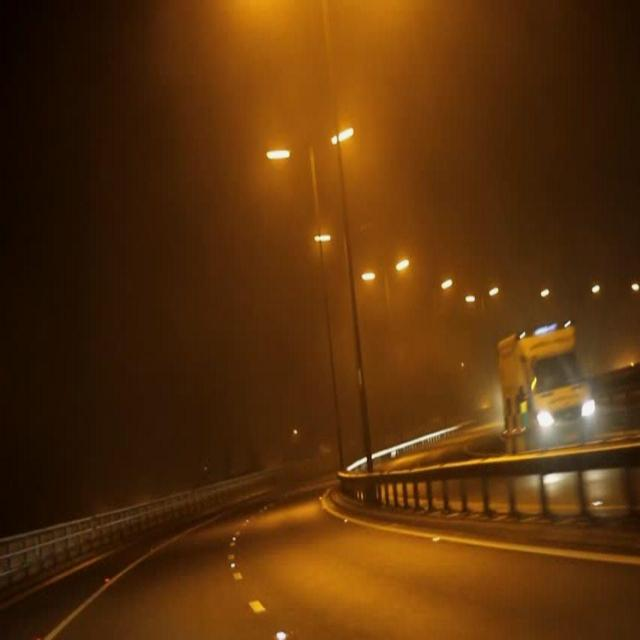Van: (496, 319, 596, 461)
